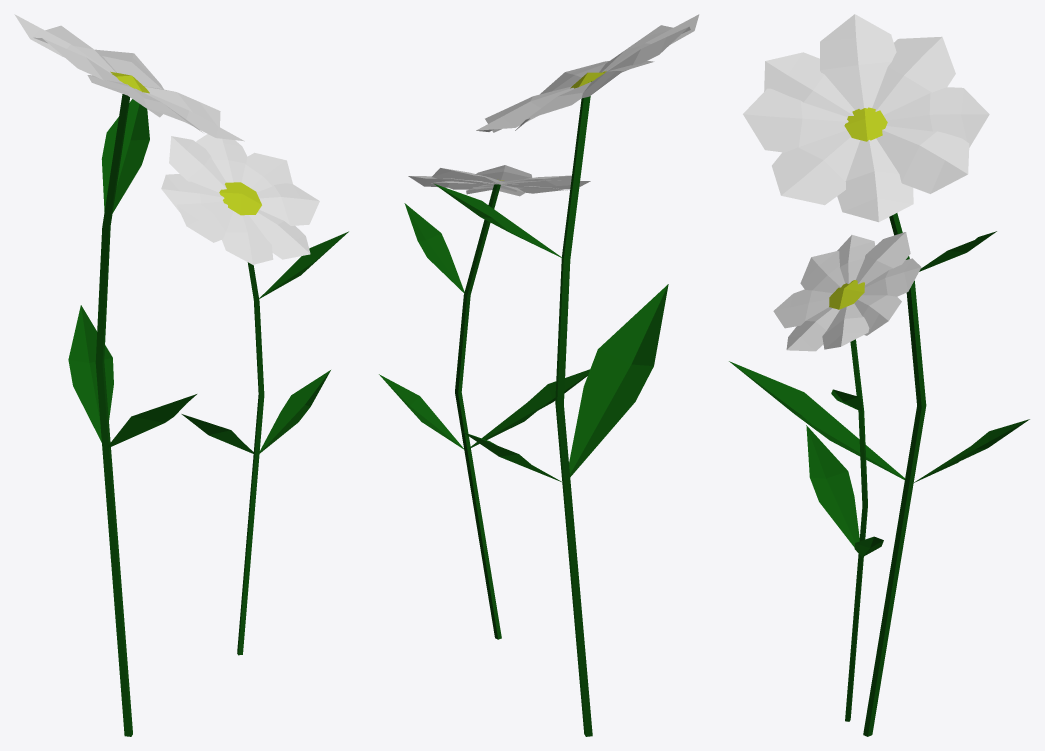
Rendered from flower4.obj.
The picture shows the model from 3 angles, left to right: view 1: azimuth 30°, elevation 25°; view 2: azimuth 150°, elevation 25°; view 3: azimuth 270°, elevation 25°; orthographic projection. The views are drawn at different scales.
Visible parts, largest first — view 1: polySurface54; view 2: polySurface54; view 3: polySurface54.
Part boxes in pixels (x1=…): polySurface54: x1=14, y1=14, x2=348, y2=736; polySurface54: x1=379, y1=14, x2=699, y2=736; polySurface54: x1=729, y1=14, x2=1029, y2=736.
Size of the model in its own units: 0.7473 by 1.73 by 0.6975.
